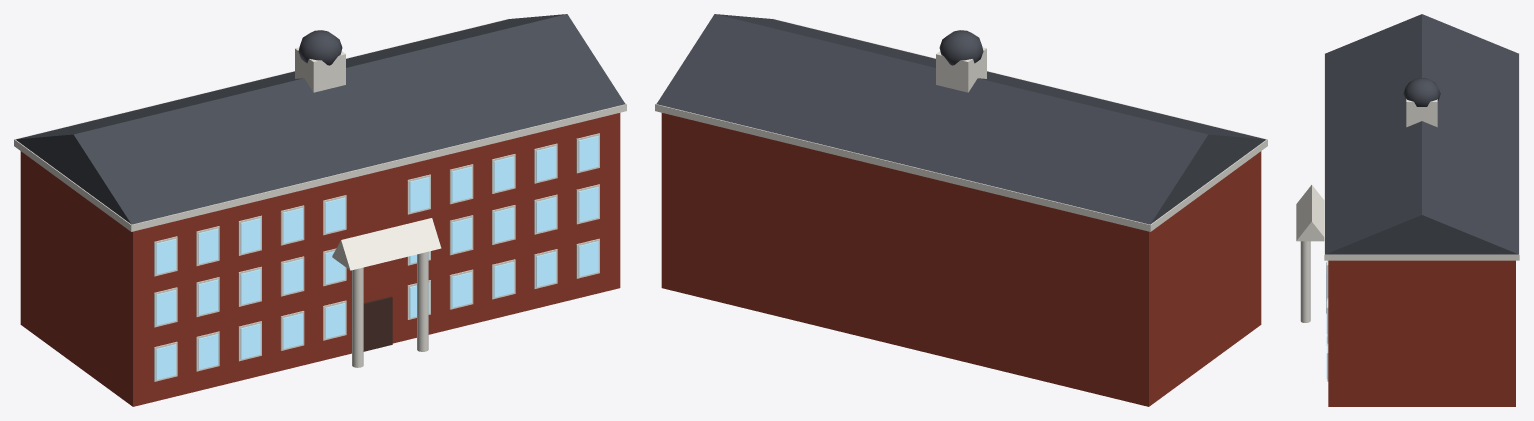
File: town_mw_hall.glb
3 renders of one model, left to right at view 1: azimuth 30°, elevation 25°; view 2: azimuth 150°, elevation 25°; view 3: azimuth 270°, elevation 25°, orthographic. The views are drawn at different scales.
Visible parts, largest first — view 1: TownMwHall_body; view 2: TownMwHall_body; view 3: TownMwHall_body.
Boxes of the visible parts, bbox=[...] form: TownMwHall_body: bbox=[14, 14, 626, 406]; TownMwHall_body: bbox=[655, 14, 1267, 406]; TownMwHall_body: bbox=[1296, 14, 1519, 406].
Size of the model in its own units: 30.5 by 16.1 by 14.3.
